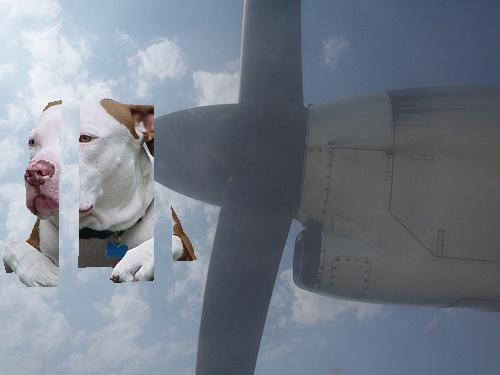tampered: (3, 99, 197, 287)
